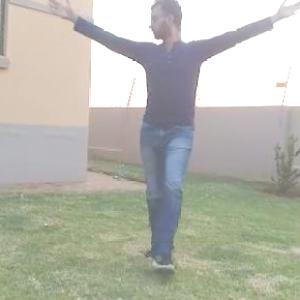takeoff: (53, 0, 299, 291)
